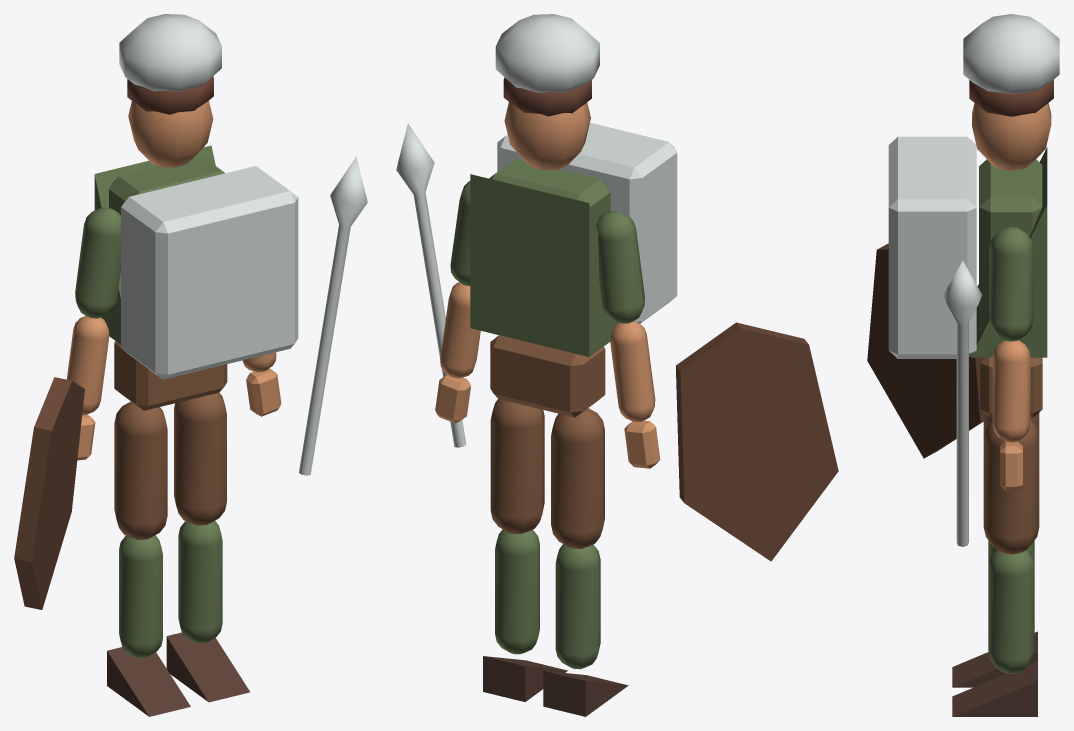
Rendered from adventurer.rustic.glb.
3 renders of one model, left to right at view 1: azimuth 30°, elevation 25°; view 2: azimuth 150°, elevation 25°; view 3: azimuth 270°, elevation 25°, orthographic.
Visible parts, largest first — view 1: accessory.body, accessory.off-hand, thigh.left, thigh.right, accessory.head, shin.right, shin.left, accessory.main-hand, upper-arm.left, head, pelvis, foot.right (+7 smaller); view 2: accessory.off-hand, tunic, accessory.body, pelvis, thigh.left, thigh.right, accessory.head, shin.left, shin.right, upper-arm.left, head, accessory.main-hand (+9 smaller); view 3: accessory.body, accessory.off-hand, accessory.head, thigh.right, shin.right, torso, upper-arm.right, accessory.main-hand, head, forearm.right, tunic, foot.right (+4 smaller).
Part boxes in pixels (bbox=[...]): accessory.body: bbox=[121, 166, 298, 379]; accessory.off-hand: bbox=[14, 377, 84, 609]; thigh.left: bbox=[114, 401, 167, 539]; thigh.right: bbox=[174, 392, 226, 525]; accessory.head: bbox=[119, 14, 221, 91]; shin.right: bbox=[178, 521, 222, 643]; shin.left: bbox=[119, 535, 162, 658]; accessory.main-hand: bbox=[299, 156, 367, 475]; upper-arm.left: bbox=[75, 207, 120, 318]; head: bbox=[128, 100, 213, 167]; pelvis: bbox=[114, 341, 227, 410]; foot.right: bbox=[166, 632, 249, 702]; accessory.off-hand: bbox=[675, 322, 838, 561]; tunic: bbox=[470, 174, 618, 356]; accessory.body: bbox=[497, 122, 677, 323]; pelvis: bbox=[490, 335, 605, 417]; thigh.left: bbox=[551, 408, 604, 548]; thigh.right: bbox=[490, 399, 544, 534]; accessory.head: bbox=[495, 14, 599, 93]; shin.left: bbox=[555, 544, 600, 669]; shin.right: bbox=[495, 529, 539, 654]; upper-arm.left: bbox=[596, 210, 644, 323]; head: bbox=[504, 102, 590, 170]; accessory.main-hand: bbox=[396, 123, 466, 447]; accessory.body: bbox=[888, 136, 976, 358]; accessory.off-hand: bbox=[867, 243, 983, 458]; accessory.head: bbox=[963, 14, 1059, 94]; thigh.right: bbox=[983, 420, 1039, 554]; shin.right: bbox=[988, 550, 1034, 673]; torso: bbox=[979, 159, 1042, 330]; upper-arm.right: bbox=[989, 226, 1033, 341]; accessory.main-hand: bbox=[943, 261, 981, 546]; head: bbox=[972, 103, 1051, 170]; forearm.right: bbox=[992, 340, 1030, 442]; tunic: bbox=[971, 147, 1047, 357]; foot.right: bbox=[952, 661, 1037, 716].
Bounding box in the file's own units: 1.98 × 3.2 × 0.8304.
